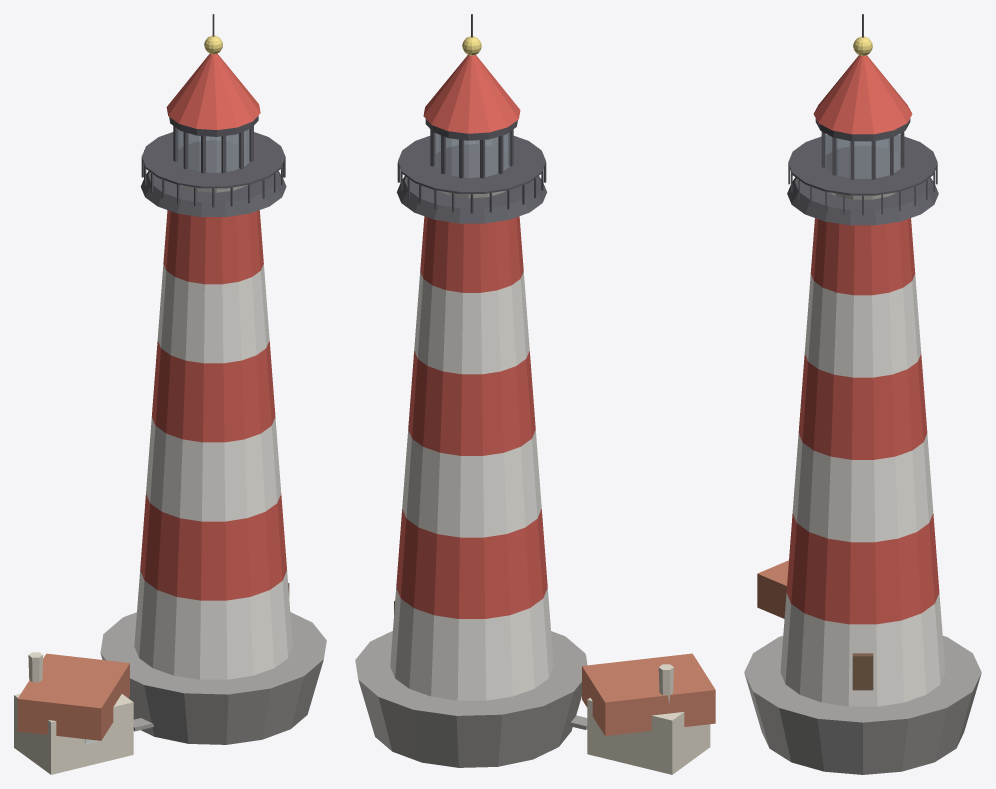
Rendered from lighthouse.glb.
The picture shows the model from 3 angles, left to right: view 1: azimuth 30°, elevation 25°; view 2: azimuth 150°, elevation 25°; view 3: azimuth 270°, elevation 25°; orthographic projection. The views are drawn at different scales.
Parts seen in each view (by area): view 1: lighthouse; view 2: lighthouse; view 3: lighthouse.
Boxes of the visible parts, x1=… form: lighthouse: x1=14, y1=14, x2=326, y2=774; lighthouse: x1=355, y1=14, x2=715, y2=774; lighthouse: x1=744, y1=14, x2=981, y2=774.
Bounding box in the file's own units: 34.41 × 72 × 21.6.
